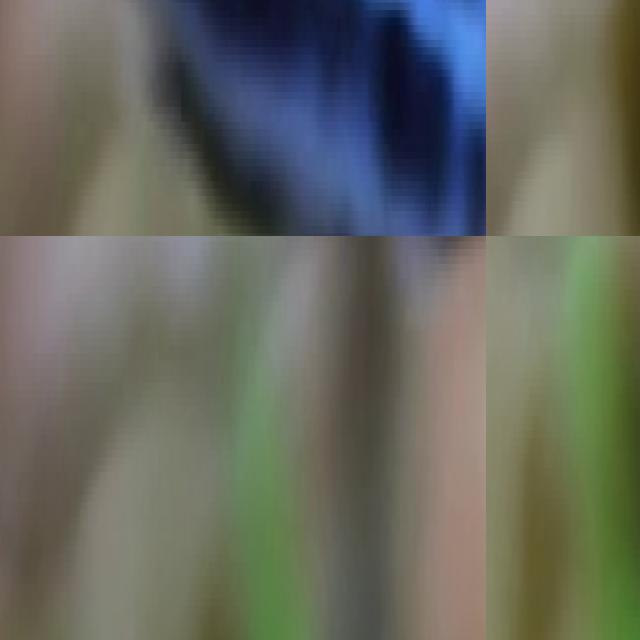fish: (0, 0, 486, 236), (571, 236, 640, 640)
